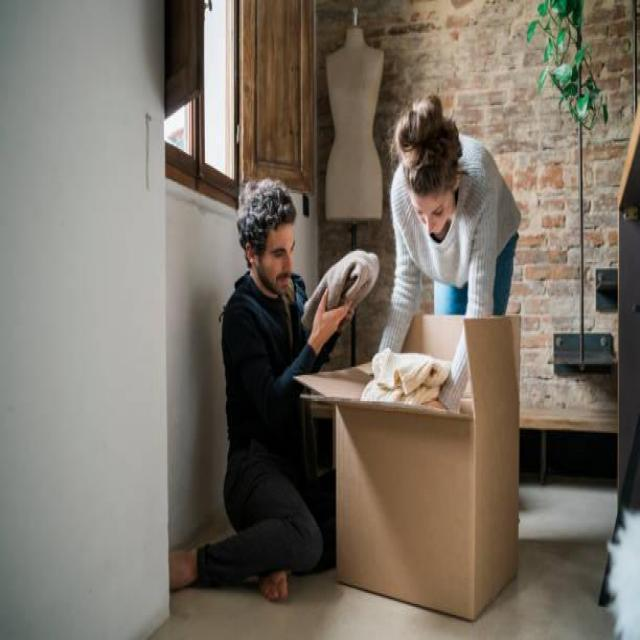box: (314, 311, 526, 622)
